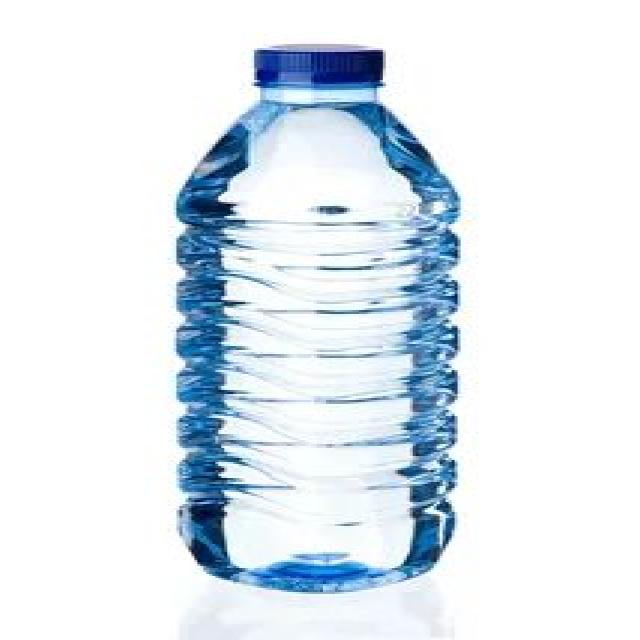blue: (175, 86, 461, 592)
